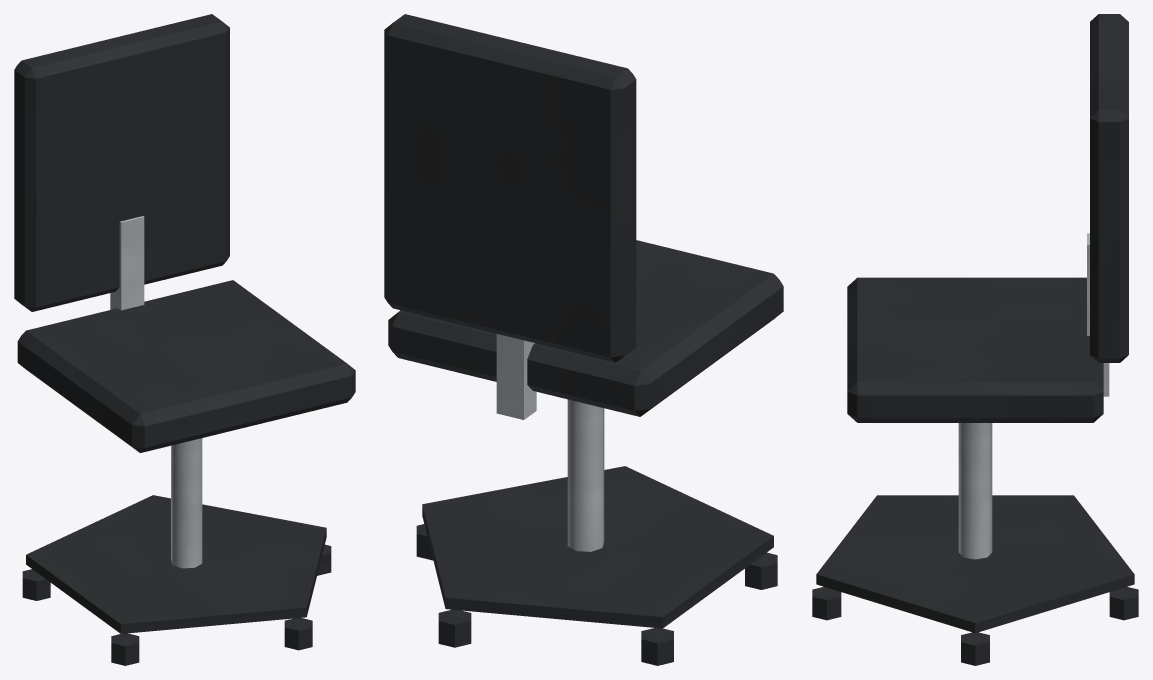
The model's file is guard_chair.fbx.
The picture shows the model from 3 angles, left to right: view 1: azimuth 30°, elevation 25°; view 2: azimuth 150°, elevation 25°; view 3: azimuth 270°, elevation 25°; orthographic projection. The views are drawn at different scales.
Visible parts, largest first — view 1: guard_chair; view 2: guard_chair; view 3: guard_chair.
Boxes of the visible parts, left/top/right/bottom form: guard_chair: left=14, top=14, right=355, bottom=665; guard_chair: left=384, top=14, right=783, bottom=665; guard_chair: left=812, top=14, right=1138, bottom=665.
Bounding box in the file's own units: 0.5665 × 1.05 × 0.5846.
Materials: 1 (1 with a texture image).
